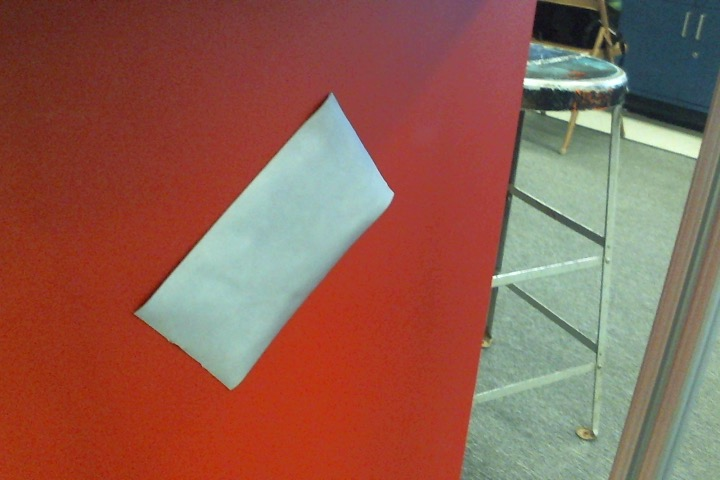Tape: (134, 93, 394, 390)
